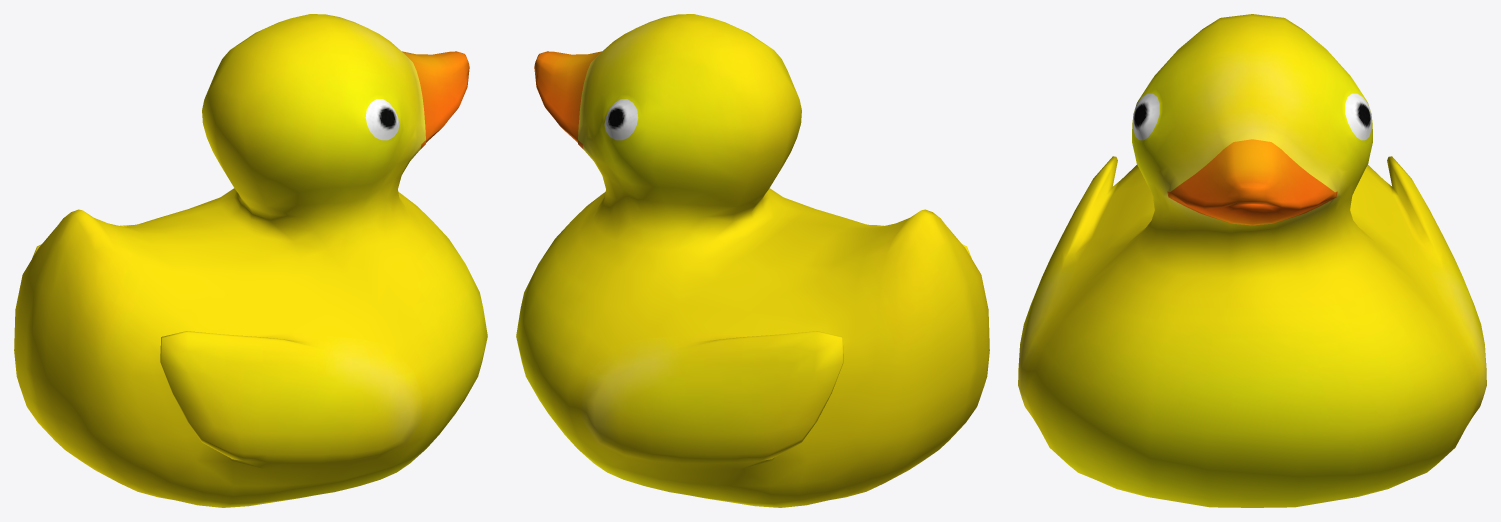
The model's file is rubber_duck.DAE.
3 views of the same model, side by side, from view 1: azimuth 30°, elevation 25°; view 2: azimuth 150°, elevation 25°; view 3: azimuth 270°, elevation 25° (orthographic). The views are drawn at different scales.
Parts seen in each view (by area): view 1: default01; view 2: default01; view 3: default01.
Part boxes in pixels (<box>): default01: <box>14,14,487,507</box>; default01: <box>516,14,989,507</box>; default01: <box>1018,14,1486,507</box>.
Bounding box in the file's own units: 143 × 120 × 130.
1 material, 1 textured.
